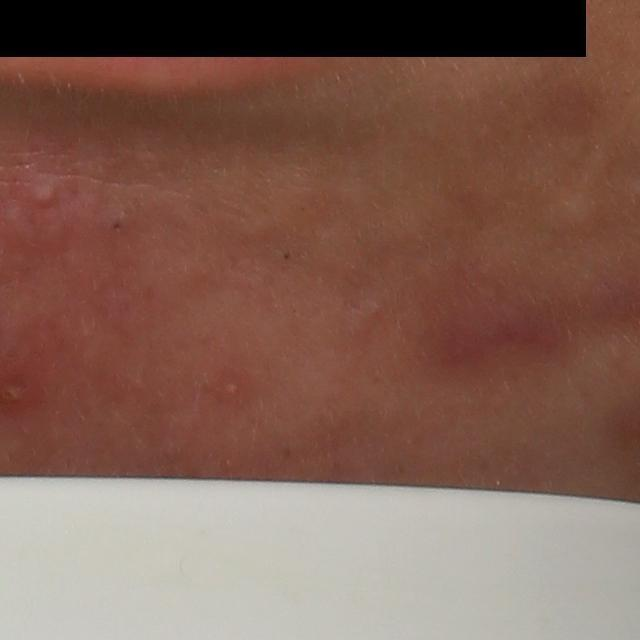hypertrophic_scar: (536, 181, 612, 244)
papule: (25, 174, 60, 212)
